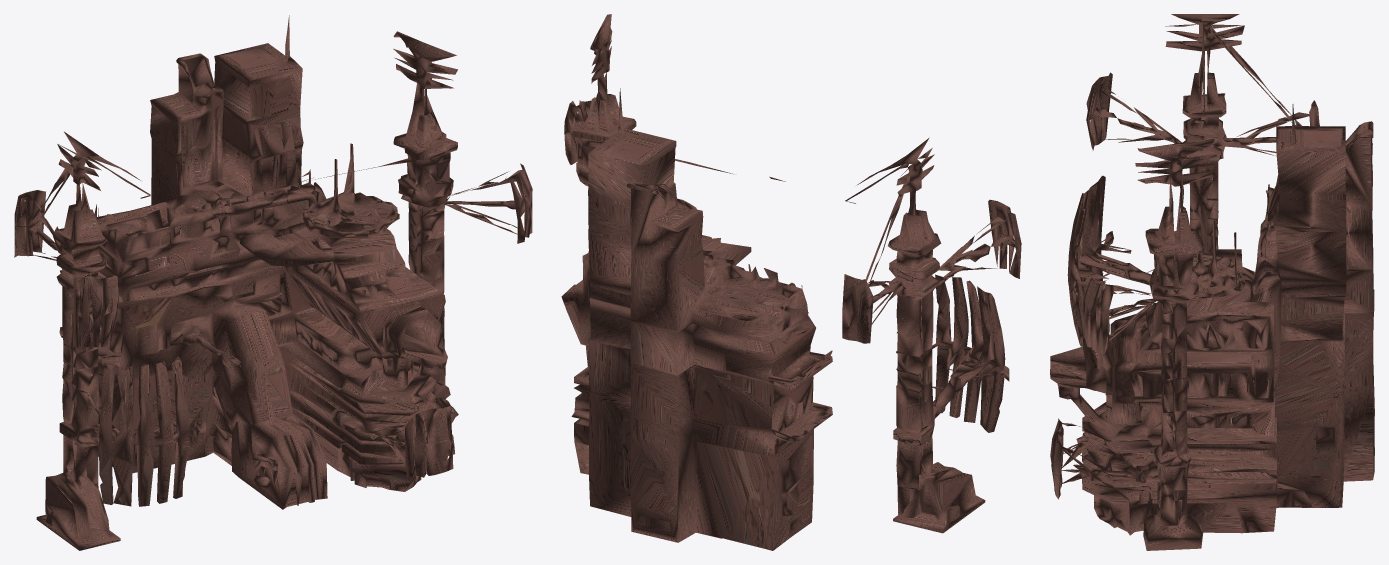
Rendered from mining.lod1.glb.
3 views of the same model, side by side, from view 1: azimuth 30°, elevation 25°; view 2: azimuth 150°, elevation 25°; view 3: azimuth 270°, elevation 25° (orthographic).
Parts seen in each view (by area): view 1: mining; view 2: mining; view 3: mining.
Boxes of the visible parts, bbox=[...] form: mining: bbox=[14, 15, 532, 550]; mining: bbox=[561, 14, 1021, 550]; mining: bbox=[1050, 14, 1374, 550].
Size of the model in its own units: 119 by 102 by 73.47.
1 material, 1 textured.
